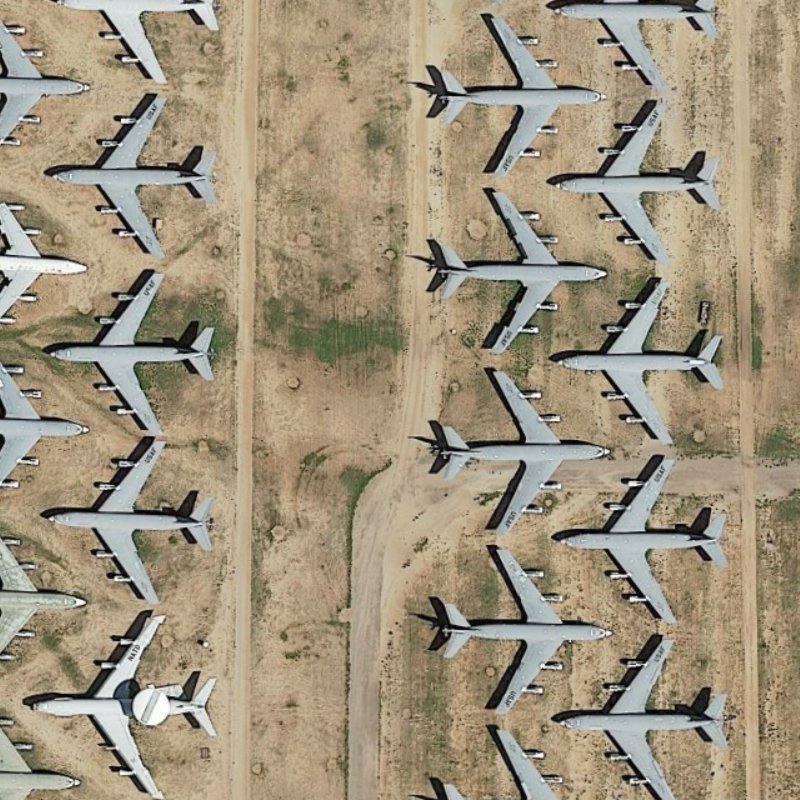A14: (541, 446, 747, 624), (418, 184, 615, 357), (422, 359, 613, 537), (32, 433, 223, 610), (552, 275, 743, 451), (418, 541, 611, 714), (37, 91, 233, 261), (547, 633, 739, 800), (420, 4, 601, 178), (46, 266, 232, 433), (552, 105, 745, 264)
A7: (17, 605, 254, 799)
